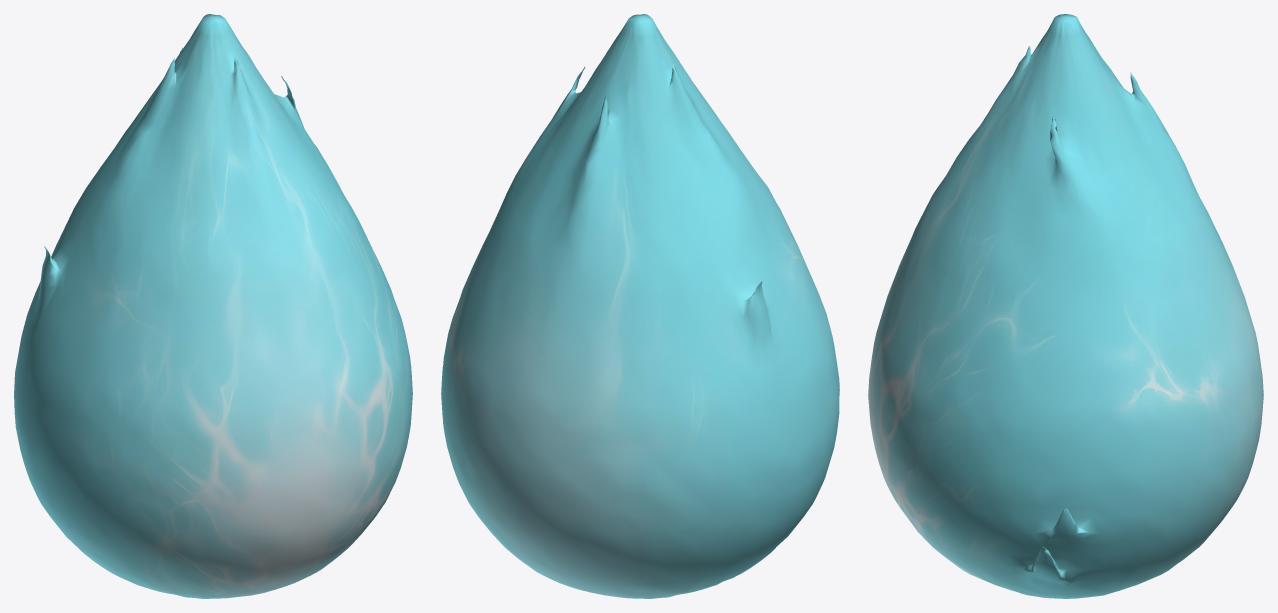
3 renders of one model, left to right at view 1: azimuth 30°, elevation 25°; view 2: azimuth 150°, elevation 25°; view 3: azimuth 270°, elevation 25°, orthographic.
Parts seen in each view (by area): view 1: tripo_node_70b7f408-08b5-4b8d-b8cb-e0f37053e233; view 2: tripo_node_70b7f408-08b5-4b8d-b8cb-e0f37053e233; view 3: tripo_node_70b7f408-08b5-4b8d-b8cb-e0f37053e233.
Boxes of the visible parts, x1,y1,x2,y2 form: tripo_node_70b7f408-08b5-4b8d-b8cb-e0f37053e233: (14, 14, 412, 598); tripo_node_70b7f408-08b5-4b8d-b8cb-e0f37053e233: (441, 14, 839, 598); tripo_node_70b7f408-08b5-4b8d-b8cb-e0f37053e233: (868, 14, 1263, 598).
Bounding box in the file's own units: 0.6582 × 0.998 × 0.6387.
1 material, 1 textured.
